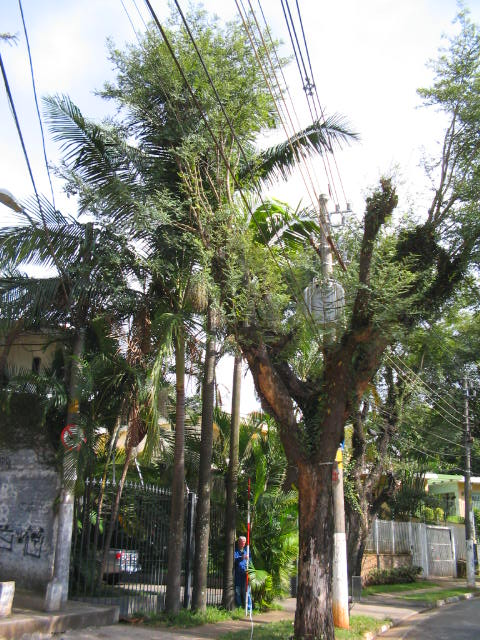stick: (237, 476, 260, 616)
